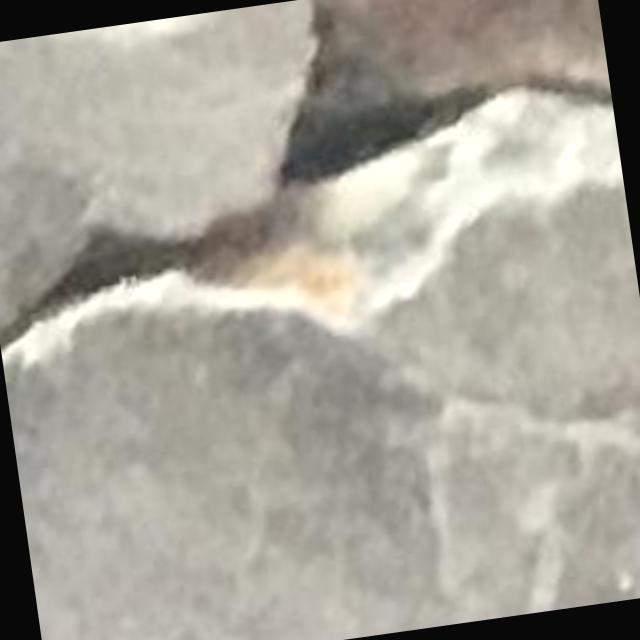crack: (0, 0, 622, 352)
